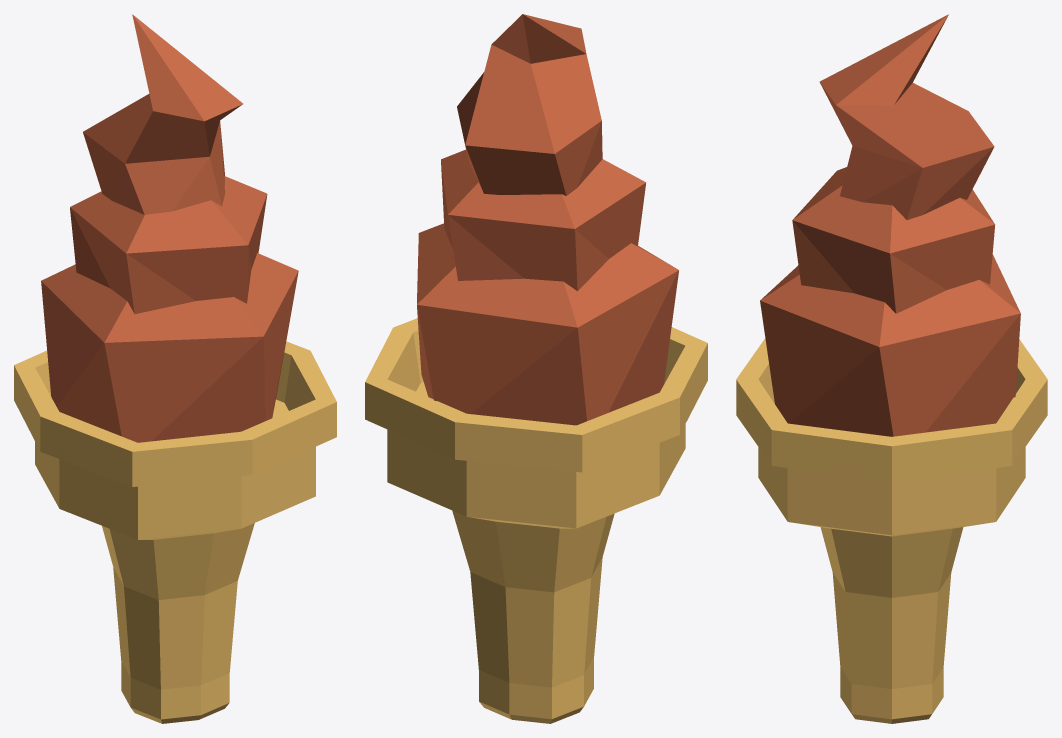
Rendered from Chocolate Icecream Cone.fbx.
3 views of the same model, side by side, from view 1: azimuth 30°, elevation 25°; view 2: azimuth 150°, elevation 25°; view 3: azimuth 270°, elevation 25° (orthographic). The views are drawn at different scales.
Parts seen in each view (by area): view 1: Chocolate Icecream Cone; view 2: Chocolate Icecream Cone; view 3: Chocolate Icecream Cone.
Part boxes in pixels (x1,y1,x2,y2): Chocolate Icecream Cone: [14, 14, 336, 723]; Chocolate Icecream Cone: [365, 14, 707, 723]; Chocolate Icecream Cone: [736, 14, 1047, 723].
Size of the model in its own units: 5.67 by 13.5 by 5.59.
